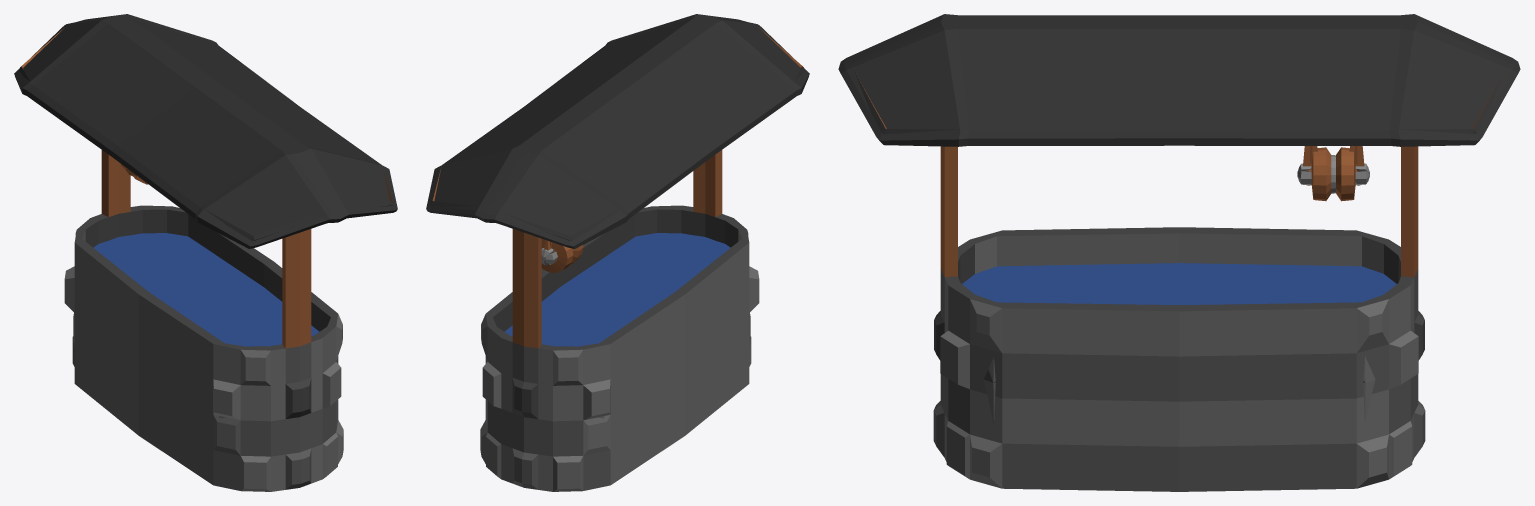
Rendered from well2.0.fbx.
The picture shows the model from 3 angles, left to right: view 1: azimuth 30°, elevation 25°; view 2: azimuth 150°, elevation 25°; view 3: azimuth 270°, elevation 25°; orthographic projection. The views are drawn at different scales.
Visible parts, largest first — view 1: Cylinder; view 2: Cylinder; view 3: Cylinder.
Boxes of the visible parts, left/top/right/bottom form: Cylinder: left=14, top=14, right=397, bottom=491; Cylinder: left=426, top=14, right=809, bottom=491; Cylinder: left=838, top=14, right=1520, bottom=491.
Size of the model in its own units: 286 by 474 by 685.
